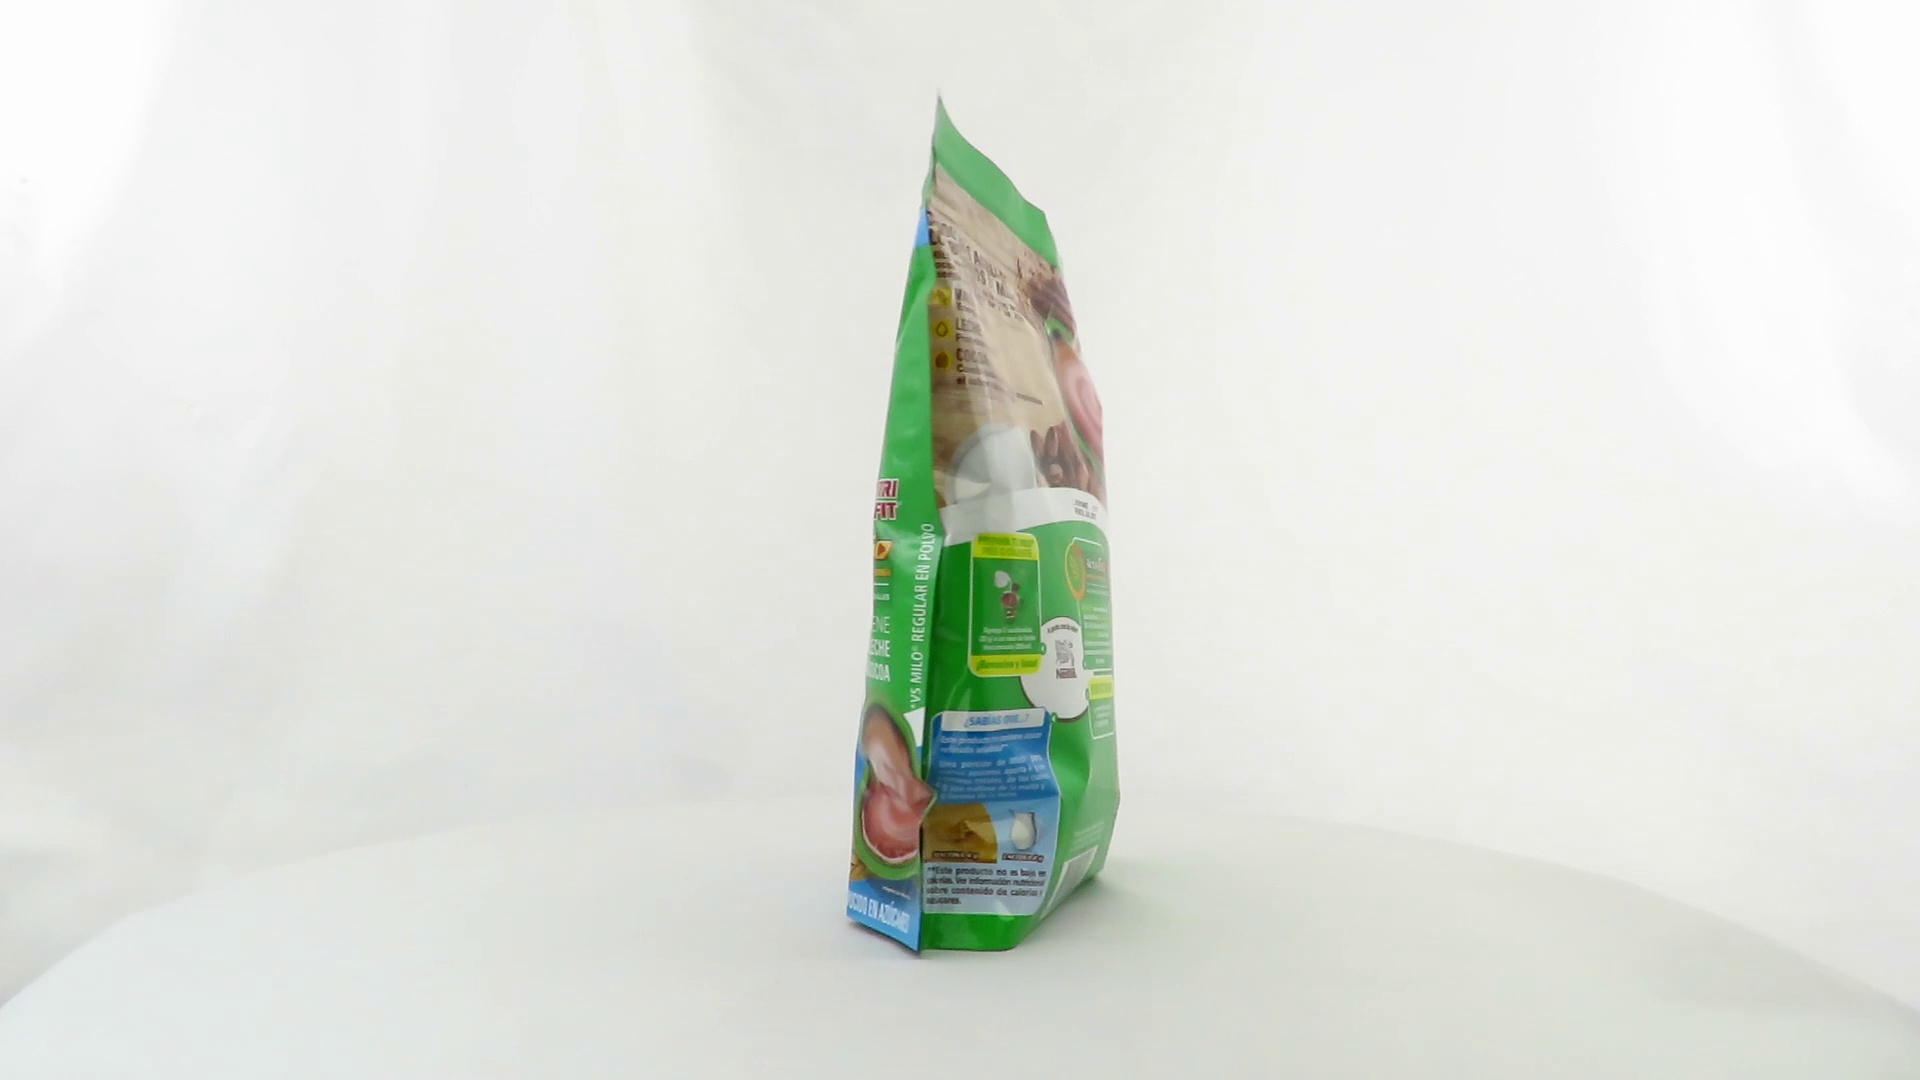COL0170205DYP50000: (841, 90, 1127, 967)
